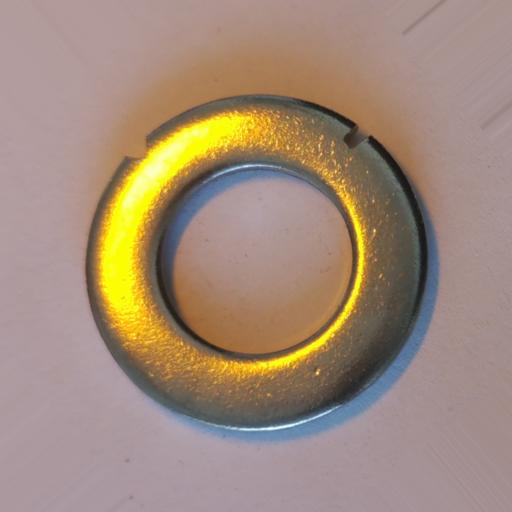burr: (341, 122, 372, 151), (123, 136, 151, 162)
